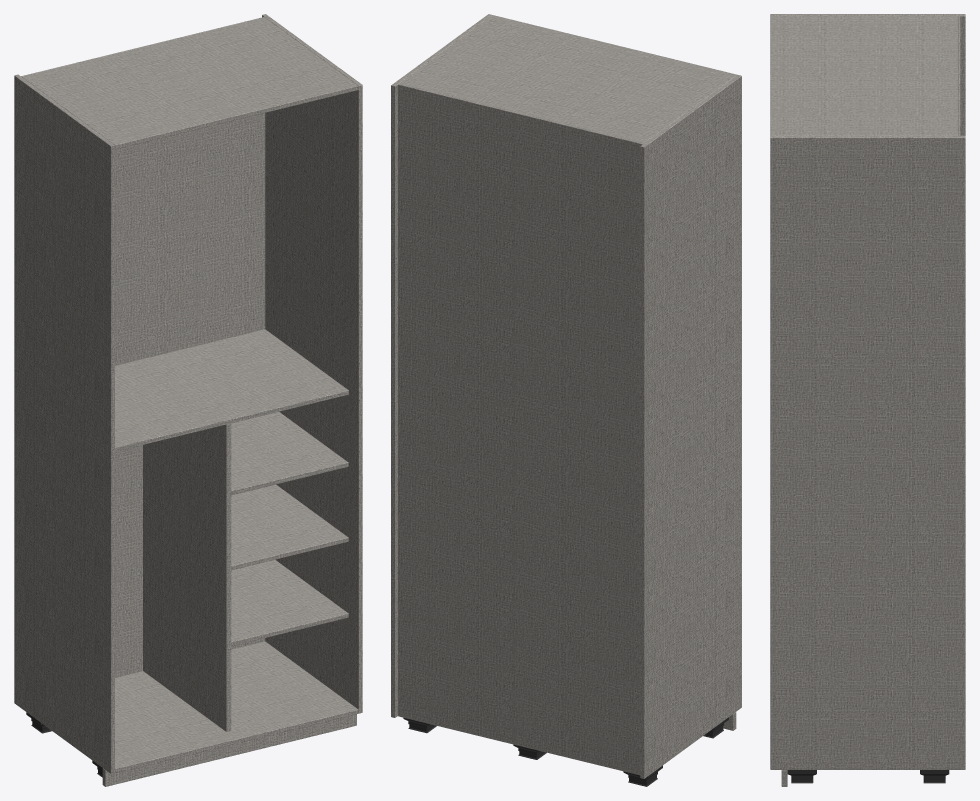
Rendered from cbib12122.gltf.
3 renders of one model, left to right at view 1: azimuth 30°, elevation 25°; view 2: azimuth 150°, elevation 25°; view 3: azimuth 270°, elevation 25°, orthographic.
Visible parts, largest first — view 1: CBIB12122; view 2: CBIB12122; view 3: CBIB12122.
Part boxes in pixels (<box>): CBIB12122: <box>14,14,362,786</box>; CBIB12122: <box>391,14,741,786</box>; CBIB12122: <box>770,14,965,786</box>.
Bounding box in the file's own units: 0.9 × 2.2 × 0.6.
Materials: 3 (2 with a texture image).
